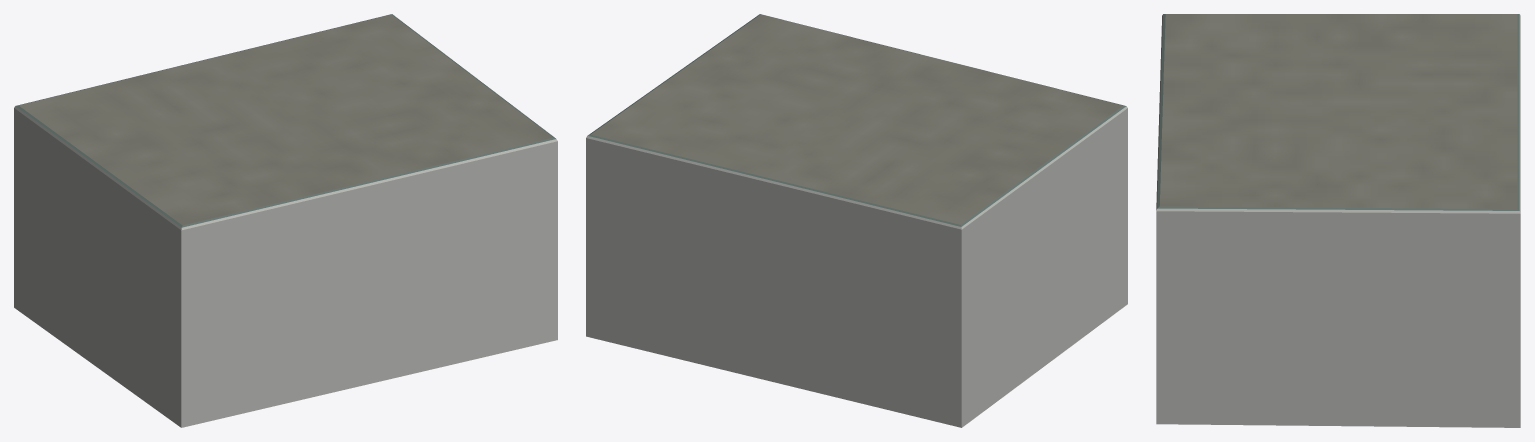
File: fragments.glb
3 views of the same model, side by side, from view 1: azimuth 30°, elevation 25°; view 2: azimuth 150°, elevation 25°; view 3: azimuth 270°, elevation 25° (orthographic). The views are drawn at different scales.
Visible parts, largest first — view 1: SM_store_Fragment_003, SM_store_Fragment_038, SM_store_Fragment_017, SM_store_Fragment_000, SM_store_Fragment_035, SM_store_Fragment_013, SM_store_Fragment_056, SM_store_Fragment_011, SM_store_Fragment_018, SM_store_Fragment_047, SM_store_Fragment_022, SM_store_Fragment_033 (+26 smaller); view 2: SM_store_Fragment_014, SM_store_Fragment_010, SM_store_Fragment_002, SM_store_Fragment_042, SM_store_Fragment_024, SM_store_Fragment_013, SM_store_Fragment_001, SM_store_Fragment_003, SM_store_Fragment_059, SM_store_Fragment_036, SM_store_Fragment_008, SM_store_Fragment_027 (+24 smaller); view 3: SM_store_Fragment_007, SM_store_Fragment_027, SM_store_Fragment_040, SM_store_Fragment_035, SM_store_Fragment_037, SM_store_Fragment_012, SM_store_Fragment_047, SM_store_Fragment_004, SM_store_Fragment_026, SM_store_Fragment_030, SM_store_Fragment_041, SM_store_Fragment_018 (+19 smaller).
Boxes of the visible parts, box(x1,y1,x2,y2) form: SM_store_Fragment_003: box(132, 186, 260, 326); SM_store_Fragment_038: box(142, 292, 282, 427); SM_store_Fragment_017: box(252, 177, 373, 317); SM_store_Fragment_000: box(364, 187, 487, 313); SM_store_Fragment_035: box(473, 110, 557, 231); SM_store_Fragment_013: box(84, 156, 162, 299); SM_store_Fragment_056: box(259, 148, 399, 234); SM_store_Fragment_011: box(234, 317, 360, 415); SM_store_Fragment_018: box(319, 122, 458, 206); SM_store_Fragment_047: box(333, 49, 465, 106); SM_store_Fragment_022: box(85, 285, 157, 410); SM_store_Fragment_033: box(288, 271, 386, 367); SM_store_Fragment_014: box(751, 270, 872, 399); SM_store_Fragment_010: box(798, 157, 911, 281); SM_store_Fragment_002: box(639, 124, 751, 229); SM_store_Fragment_042: box(835, 221, 945, 349); SM_store_Fragment_024: box(684, 209, 805, 329); SM_store_Fragment_013: box(1008, 134, 1087, 299); SM_store_Fragment_001: box(855, 342, 992, 427); SM_store_Fragment_003: box(1041, 86, 1127, 225); SM_store_Fragment_059: box(924, 274, 1024, 381); SM_store_Fragment_036: box(723, 157, 819, 256); SM_store_Fragment_008: box(900, 211, 994, 316); SM_store_Fragment_027: box(586, 99, 668, 217); SM_store_Fragment_007: box(1239, 175, 1373, 299); SM_store_Fragment_027: box(1398, 182, 1520, 299); SM_store_Fragment_040: box(1331, 293, 1467, 427); SM_store_Fragment_035: box(1156, 170, 1249, 298); SM_store_Fragment_037: box(1156, 297, 1266, 418); SM_store_Fragment_012: box(1416, 297, 1520, 427); SM_store_Fragment_047: box(1301, 147, 1450, 284); SM_store_Fragment_004: box(1229, 336, 1344, 426); SM_store_Fragment_026: box(1269, 75, 1407, 132); SM_store_Fragment_030: box(1226, 31, 1366, 83); SM_store_Fragment_041: box(1254, 283, 1378, 342); SM_store_Fragment_018: box(1158, 109, 1299, 158).
Bounding box in the file's own units: 2.2 × 1.13 × 1.71.
Materials: 4 (1 with a texture image).
